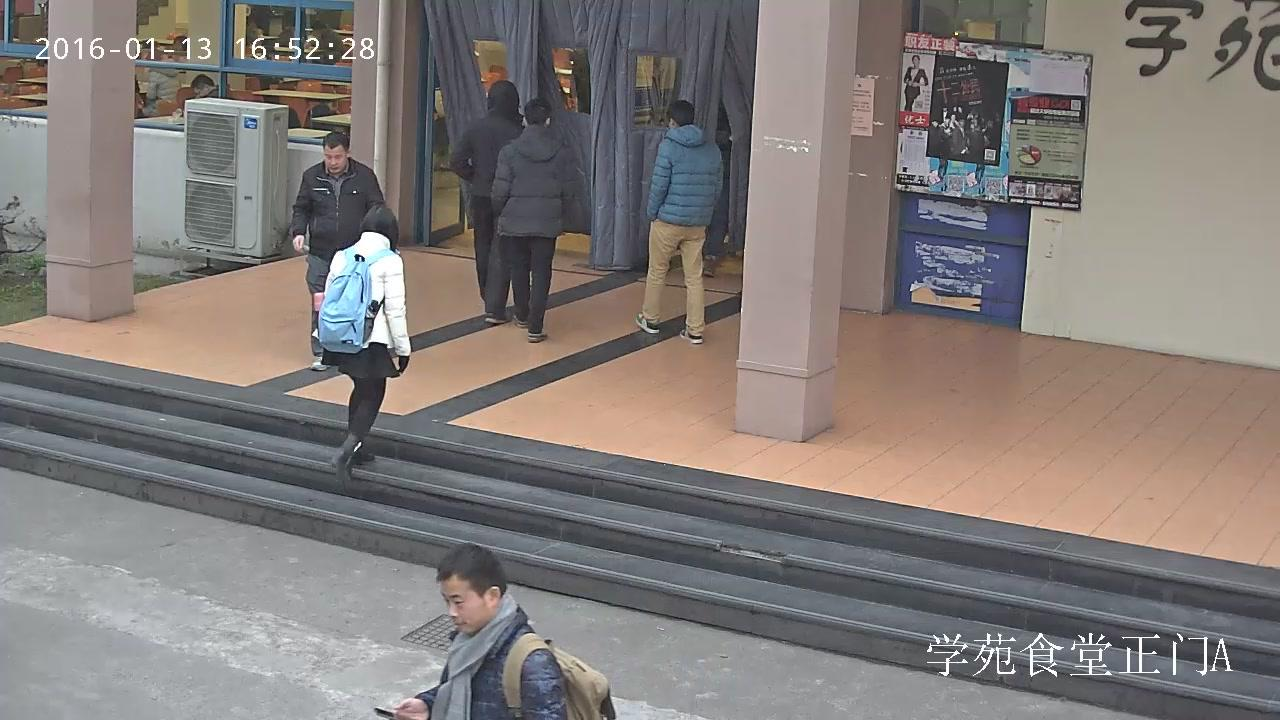person: (374, 543, 619, 720), (319, 204, 411, 483), (289, 130, 393, 371), (486, 97, 577, 346), (635, 100, 723, 343), (449, 79, 532, 325), (137, 53, 182, 117), (903, 54, 930, 113), (312, 21, 343, 62)
